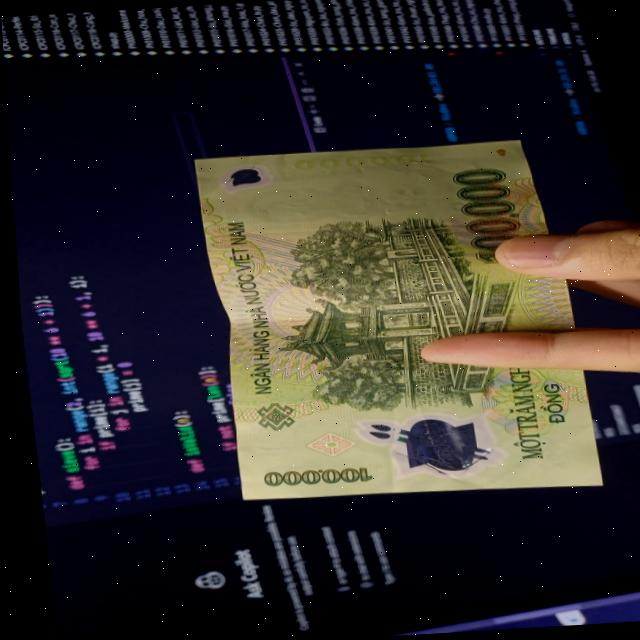100 000 VND: (179, 132, 603, 510)
